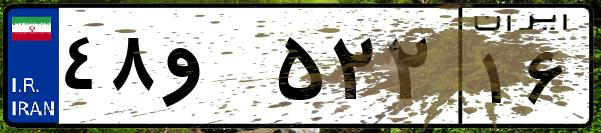1: (475, 38, 525, 113)
2: (385, 28, 445, 110), (330, 28, 385, 110)
4: (57, 26, 110, 100)
5: (270, 28, 330, 110)
6: (525, 38, 570, 115)
8: (110, 28, 158, 98)
و: (158, 20, 270, 120)
